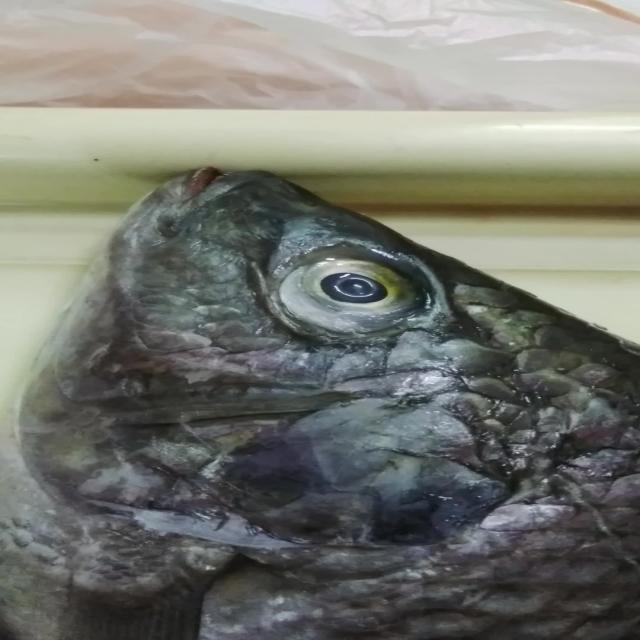Non-Fresh: (257, 233, 450, 357)
